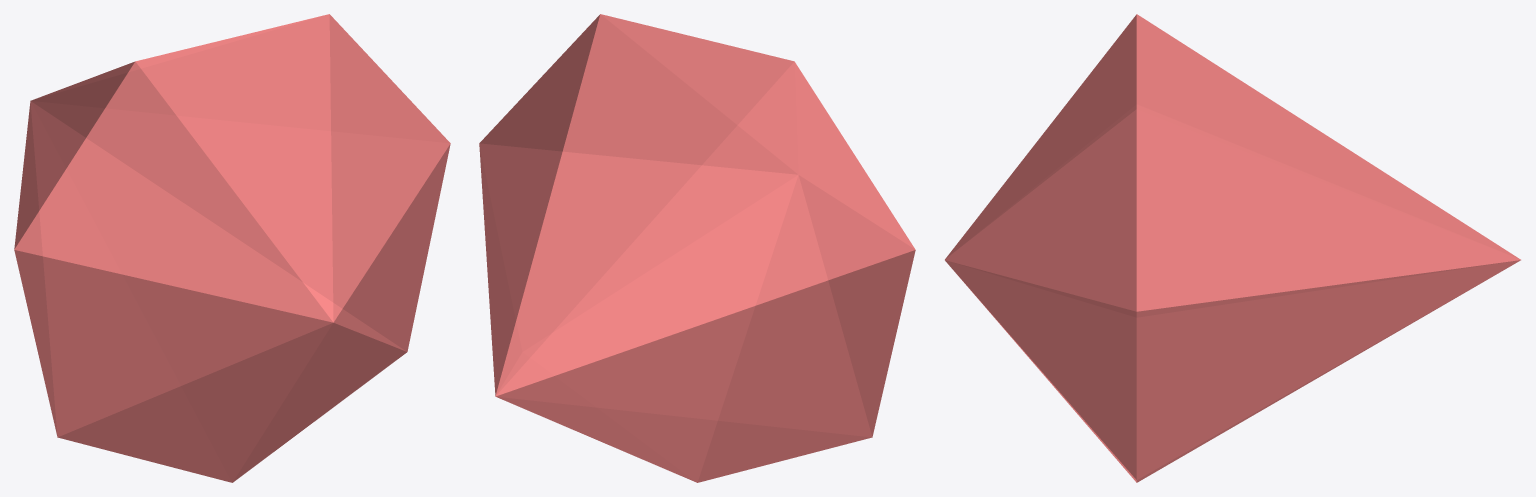
File: HeptagonalDipyramid.obj
3 renders of one model, left to right at view 1: azimuth 30°, elevation 25°; view 2: azimuth 150°, elevation 25°; view 3: azimuth 270°, elevation 25°, orthographic. The views are drawn at different scales.
Size of the model in its own units: 2.49 by 2.43 by 3.
